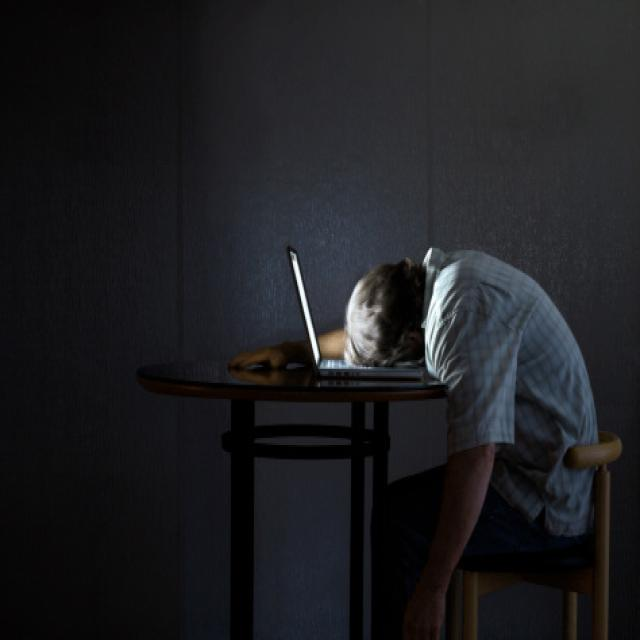People: (350, 232, 602, 640)
Table: (111, 311, 448, 639)
chair: (424, 414, 631, 640)
